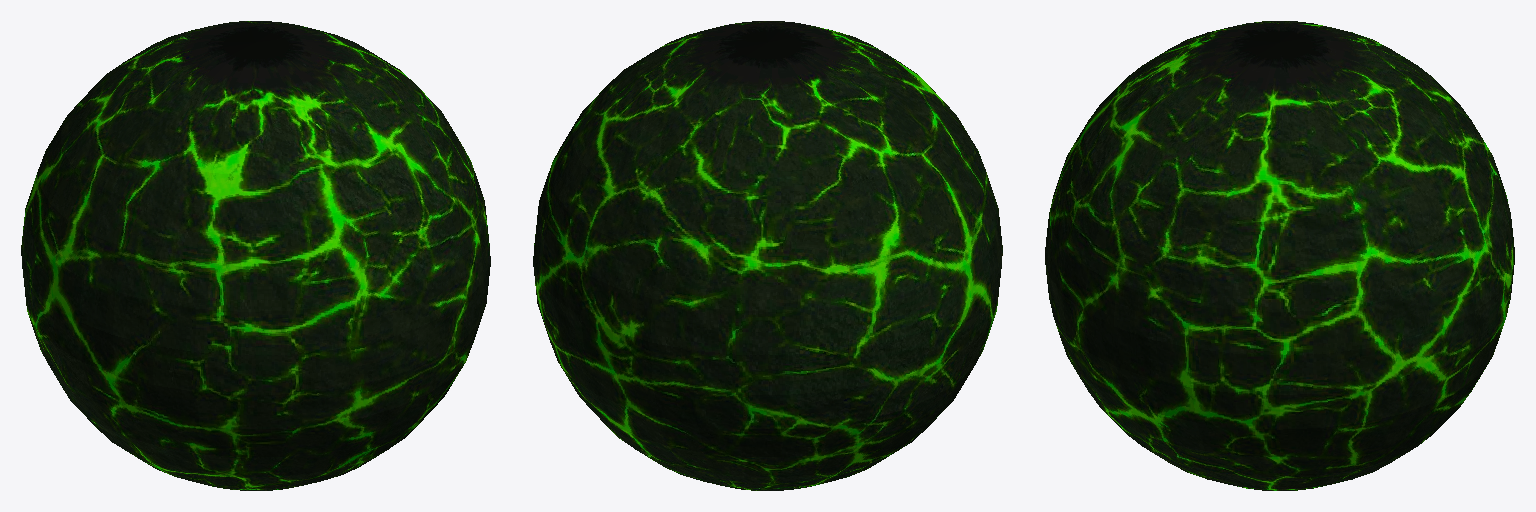
The picture shows the model from 3 angles: view 1: azimuth 30°, elevation 25°; view 2: azimuth 150°, elevation 25°; view 3: azimuth 270°, elevation 25°; orthographic projection.
Parts seen in each view (by area): view 1: unnamed_object1; view 2: unnamed_object1; view 3: unnamed_object1.
Boxes of the visible parts, <box> form: unnamed_object1: <box>21,21,490,490</box>; unnamed_object1: <box>533,21,1002,490</box>; unnamed_object1: <box>1045,21,1514,490</box>.
Size of the model in its own units: 2 by 2 by 2.
Materials: 1 (1 with a texture image).